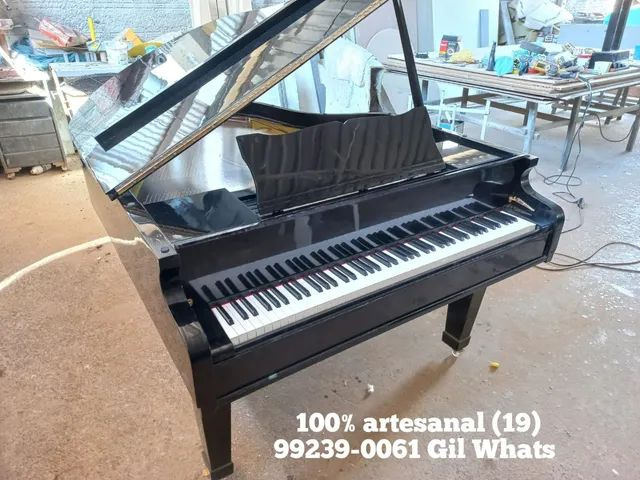Piano: (65, 1, 566, 480)
